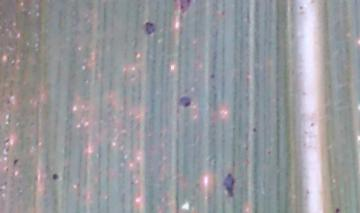tarspot: (221, 172, 236, 198), (142, 20, 157, 37), (177, 93, 191, 109), (178, 1, 192, 15), (51, 172, 59, 182), (208, 71, 215, 82), (265, 148, 273, 157), (308, 120, 316, 129), (299, 88, 307, 97), (12, 158, 19, 168), (304, 186, 311, 196), (219, 7, 226, 17), (5, 96, 12, 106), (3, 136, 11, 144), (333, 206, 341, 213), (250, 126, 257, 134), (297, 4, 304, 11)
